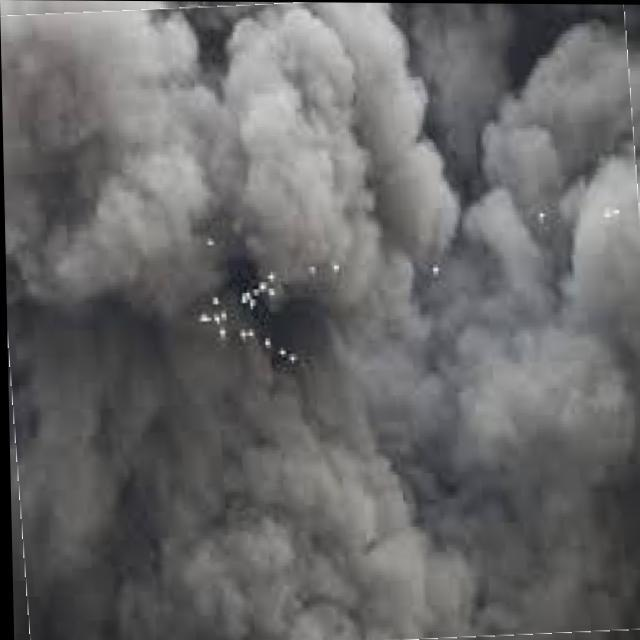smoke: (29, 332, 626, 622), (7, 21, 460, 306), (464, 24, 629, 316)
